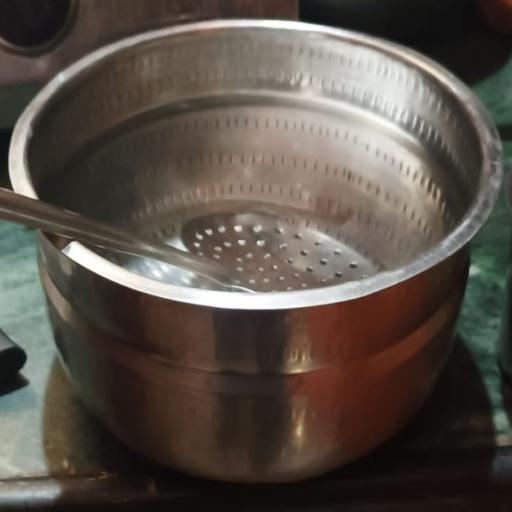vessel: (10, 20, 501, 480)
